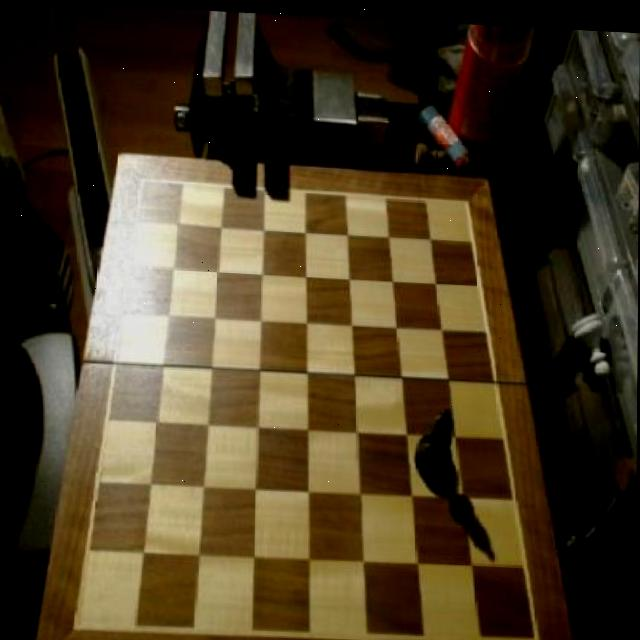bishop: (415, 399, 461, 481)
